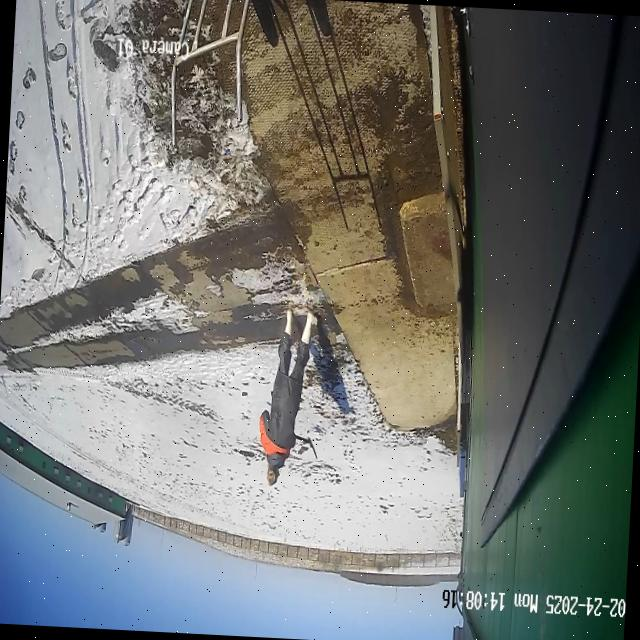Red uniform: (260, 309, 317, 485)
